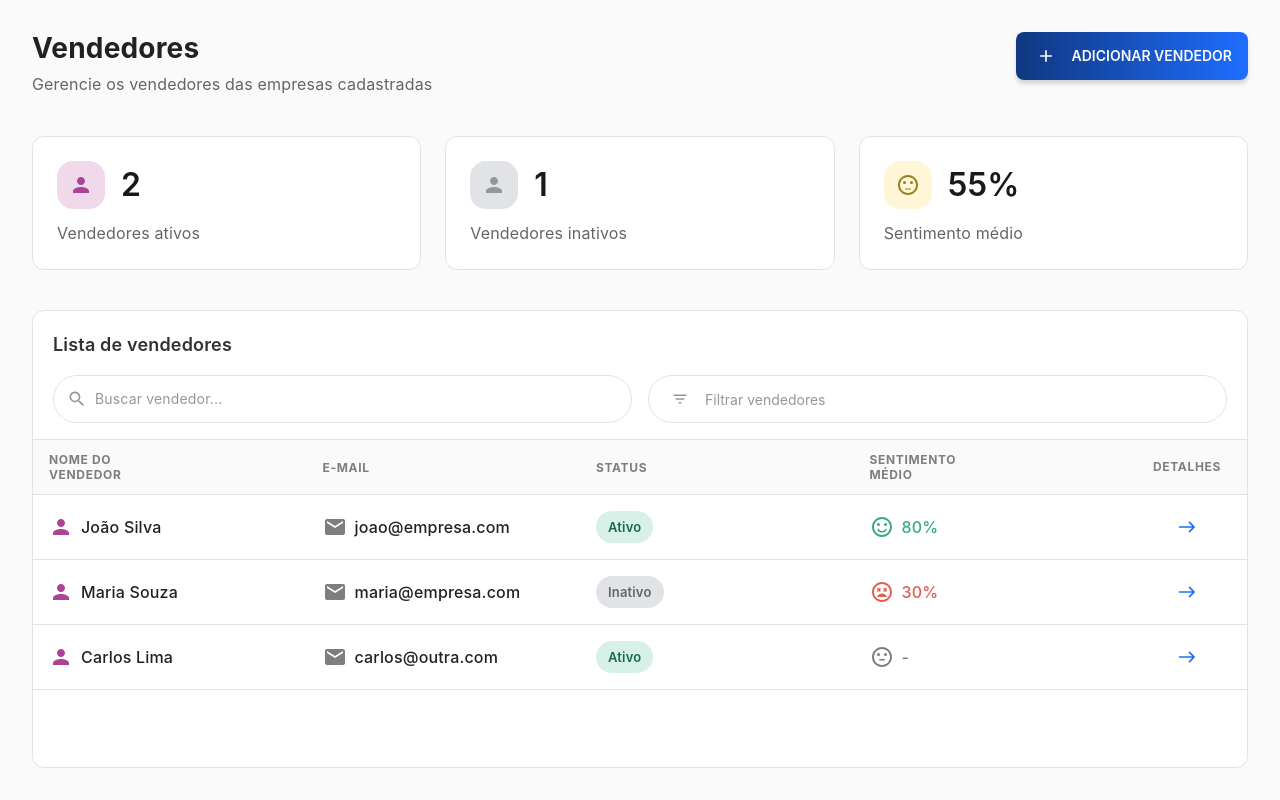
Test: ManagerSalesmenPage › filters salesmen by search on email
Type "carlos@outra.com" into the field with placeholder "Buscar vendedor...".
click(364, 399); type("carlos@outra.com")  # box [95, 379, 632, 419]
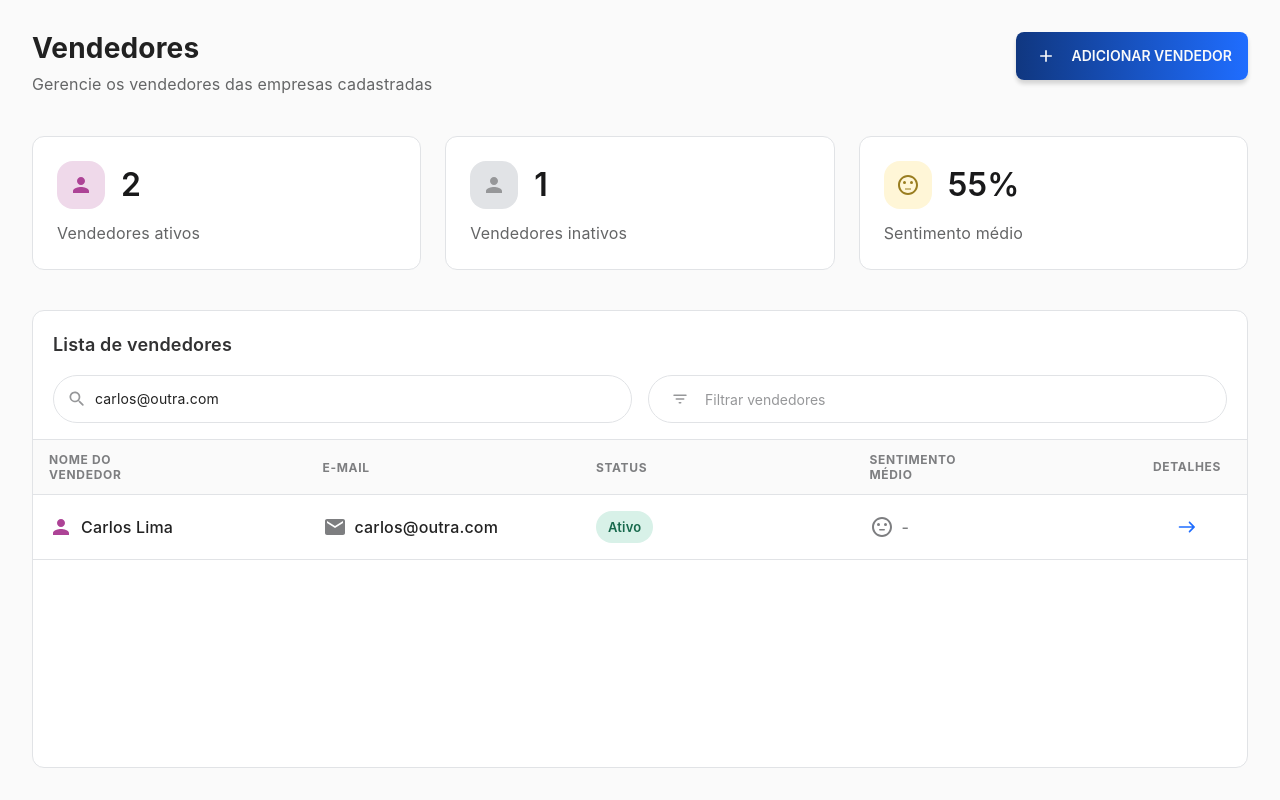
Expected: the text "Carlos Lima" is shown, [81, 516, 173, 538]
Expected: the text "João Silva" is gone
Expected: the text "Maria Souza" is gone
